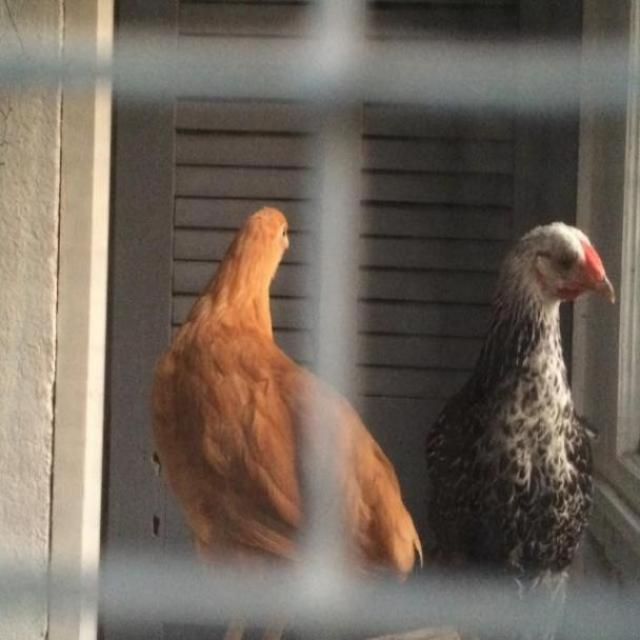Chicken: (149, 205, 424, 639), (417, 209, 611, 602)
